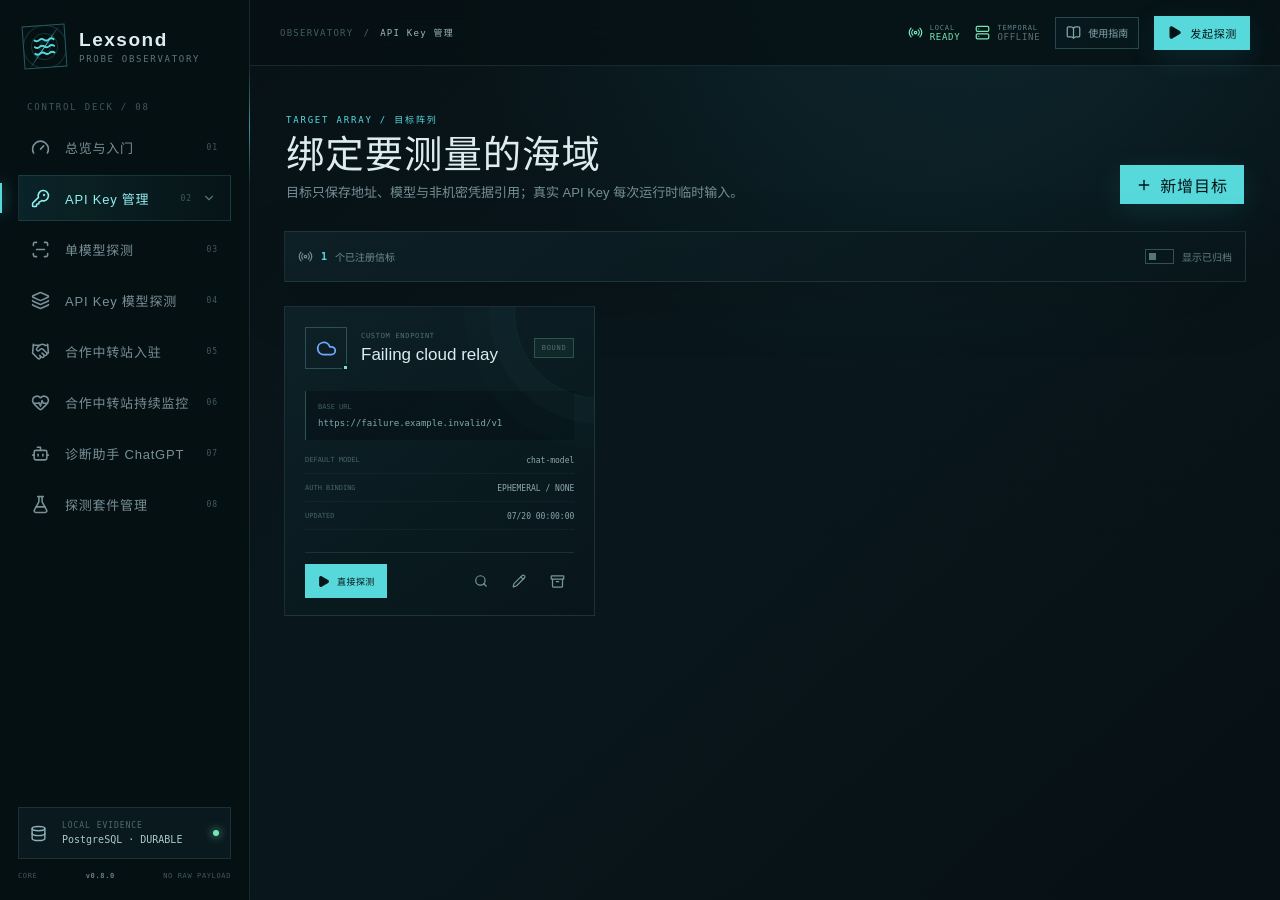
observatory console › clears a catalog key on failure without retaining it in mutation state
Click the button named "发现模型": (481, 581) [464,564,498,598]
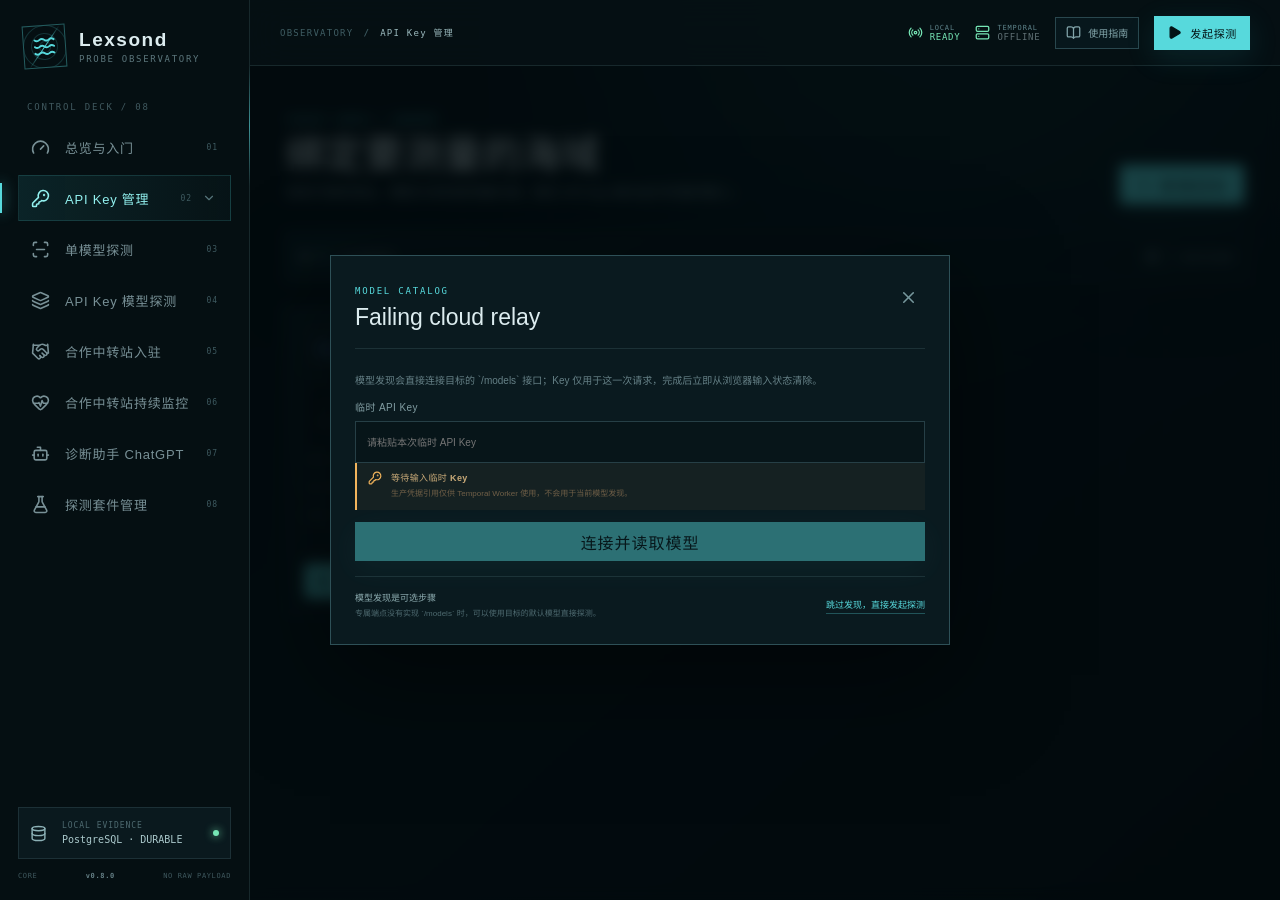
In the password field labelled "临时 API Key": (640, 442) [355,421,925,463], type "test-catalog-failure-key"
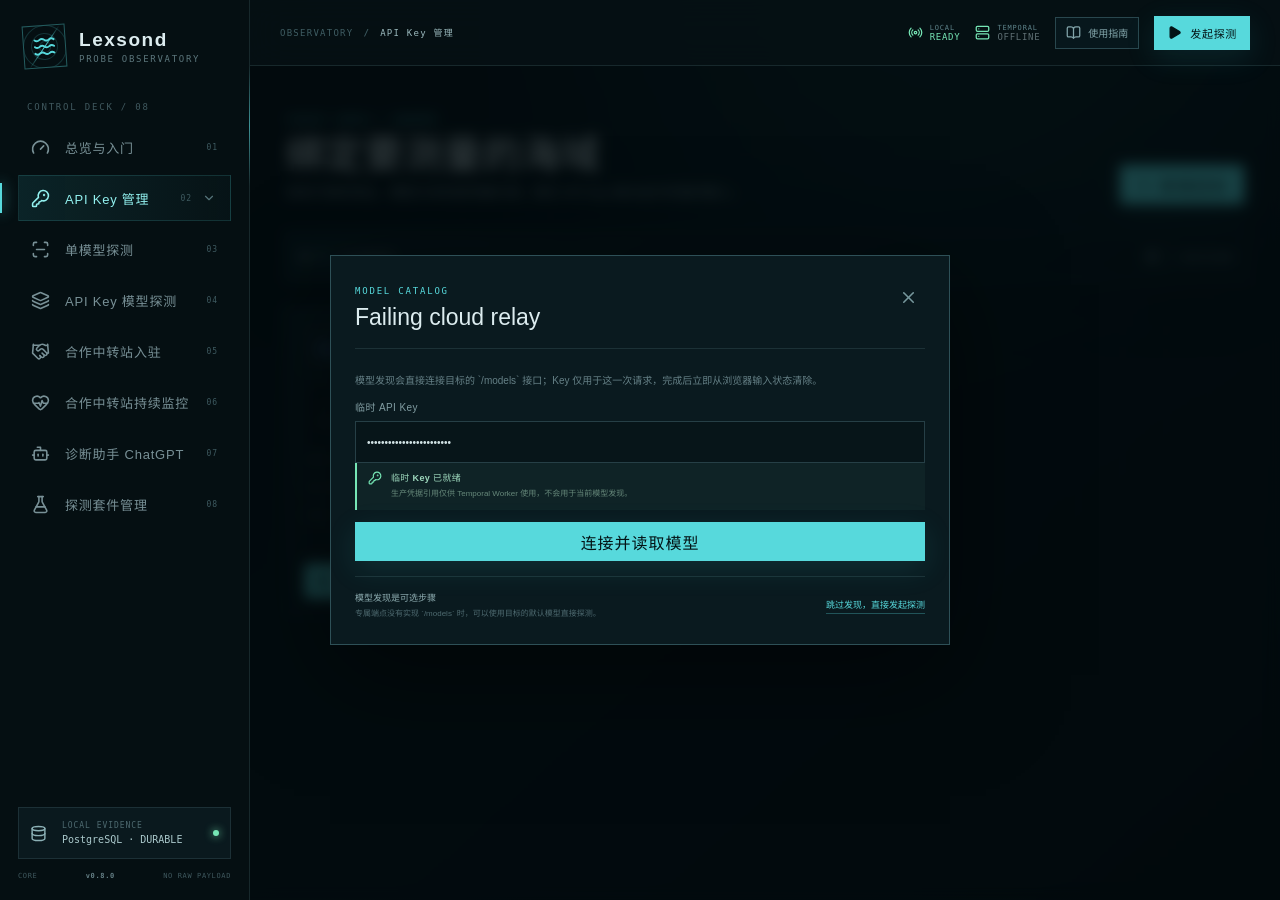
Click the button "连接并读取模型": (640, 542) [355,522,925,561]
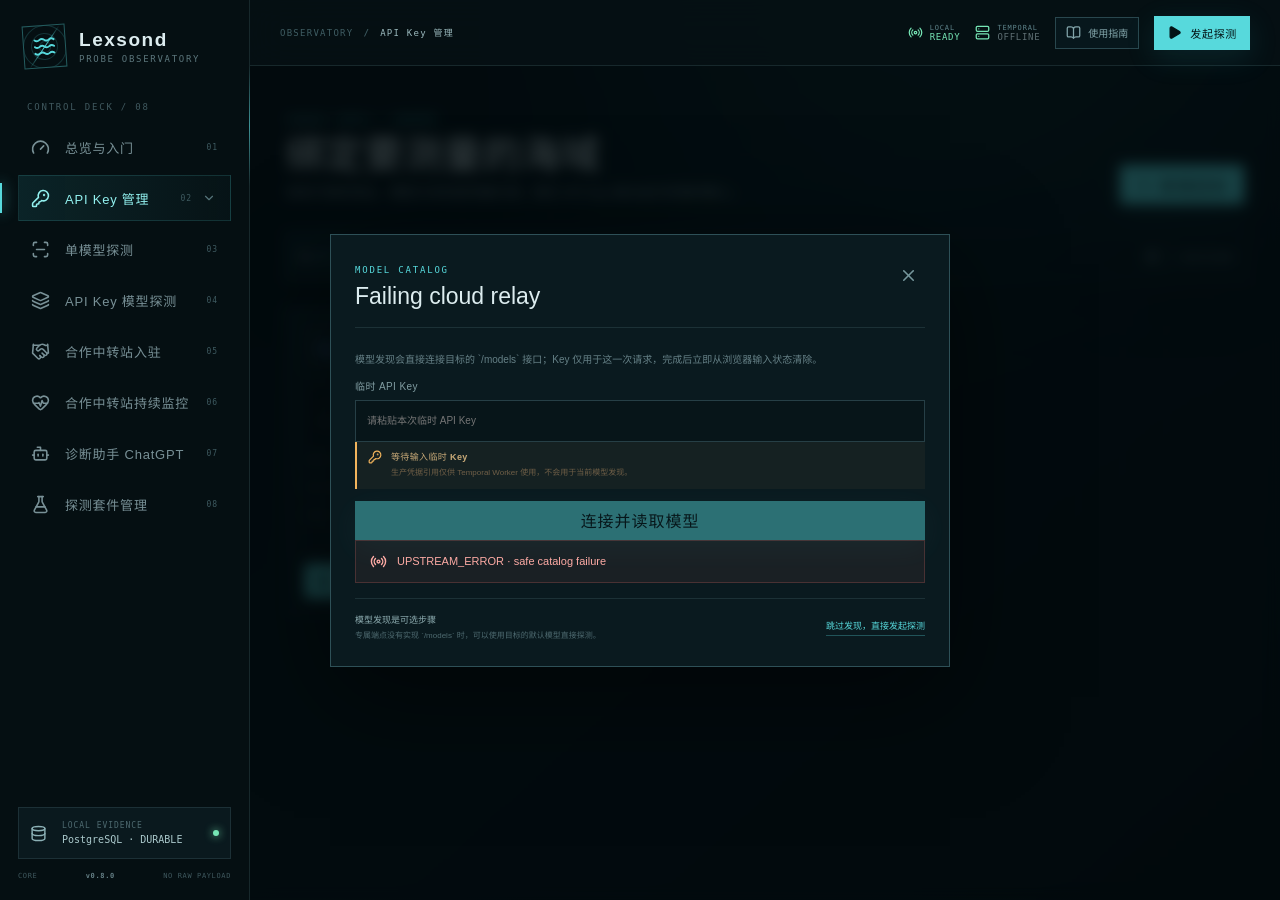
Now the password field labelled "临时 API Key" is empty, box [355,400,925,442]
Now the text "UPSTREAM_ERROR · safe catalog failure" is shown, box [397,553,606,569]
